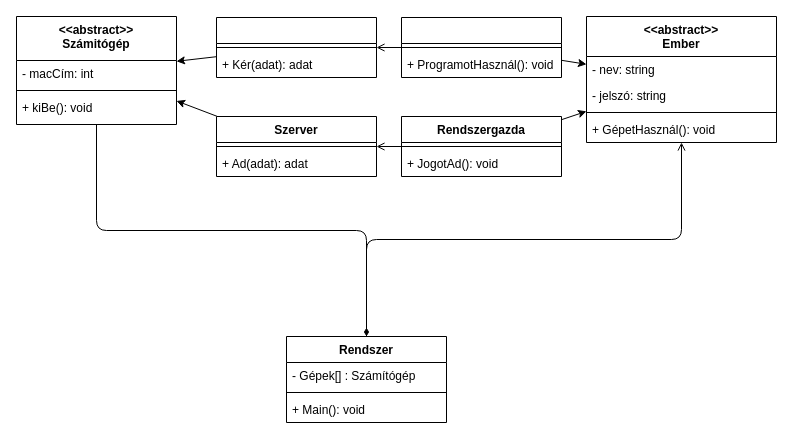
Some shapes in this 793 by 439 pixel diagram are drawn without their labels. Here are the shapes that lost their labels. From the top down, the box of each, then its label:
(216, 16, 376, 78): Kliens
(400, 16, 562, 78): Felhasználó
